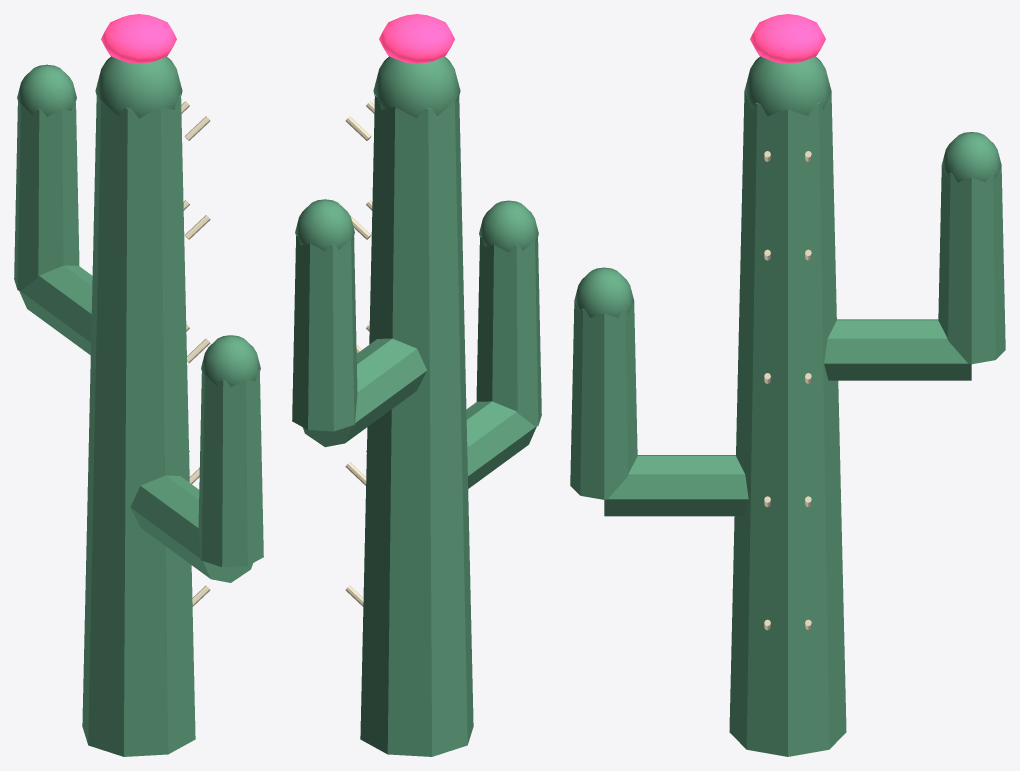
File: prop_cactus.glb
The picture shows the model from 3 angles, left to right: view 1: azimuth 30°, elevation 25°; view 2: azimuth 150°, elevation 25°; view 3: azimuth 270°, elevation 25°; orthographic projection.
Parts seen in each view (by area): view 1: static_Cactus green, static_Arcade pink, static_Warm ivory; view 2: static_Cactus green, static_Arcade pink, static_Warm ivory; view 3: static_Cactus green, static_Arcade pink.
Part boxes in pixels (x1,y1,x2,y2): static_Cactus green: [14, 56, 263, 756]; static_Arcade pink: [101, 14, 176, 63]; static_Warm ivory: [181, 101, 210, 606]; static_Cactus green: [292, 56, 541, 756]; static_Arcade pink: [379, 14, 454, 63]; static_Warm ivory: [345, 101, 374, 606]; static_Cactus green: [570, 56, 1005, 756]; static_Arcade pink: [750, 14, 825, 63].
Size of the model in its own units: 0.9439 by 5.78 by 3.2.
